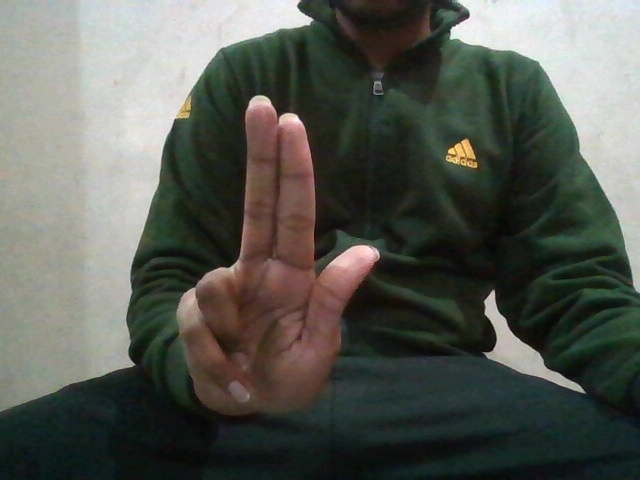K: (177, 93, 374, 426)
